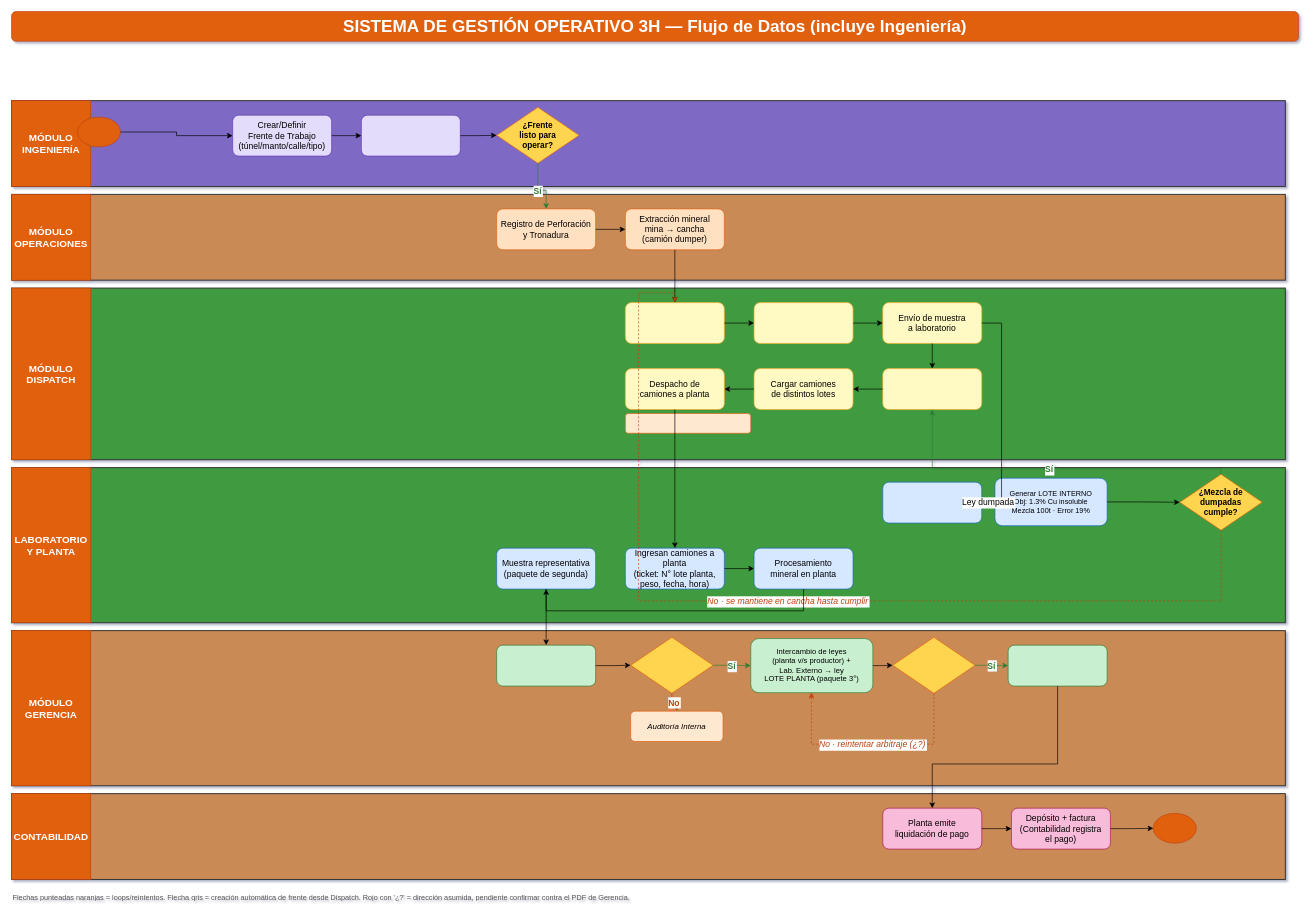
Some shapes in this 1315 by 919 pixel diagram are drawn without their labels. Each missing label, with the centre of its shape:
"Análisis de muestras y paquetes de segunda Entrega de resultados" goes at (932,502).
"Canje paquete de segunda por paquete de planta" goes at (1057,665).
"Comparar ley Lote Interno vs paquete de segunda" goes at (546,665).
"FIN" goes at (1174,828).
"Generar Lotes Internos" goes at (932,389).
"INICIO" goes at (98,131).
"Registro de Dumpadas" goes at (674,323).
"Seguimiento de Estado (ventilación, estabilidad, fecha estimada)" goes at (410,135).
"Toma de Muestra (en cancha hasta cumplir ley)" goes at (803,323).
"¿Dentro de ±10%?" goes at (671,665).
"¿Lote Planta dentro de 0.10%?" goes at (933,665).
"↑ el frente también se autogenera acá si no existe en el catálogo" goes at (688,423).
